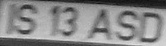1: (46, 3, 61, 37)
3: (61, 4, 79, 39)
A: (85, 5, 113, 42)
D: (140, 9, 163, 44)
I: (3, 2, 16, 39)
S: (114, 9, 138, 42), (16, 3, 39, 36)
